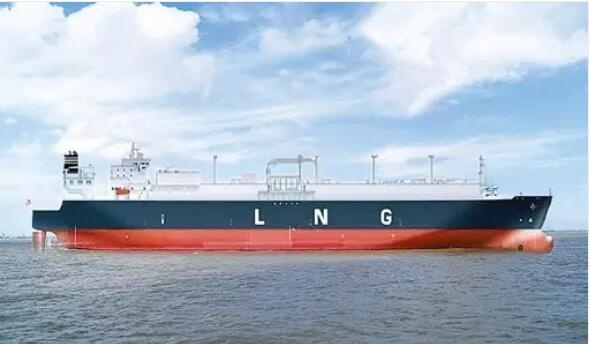Cargoship: (30, 133, 555, 249)
